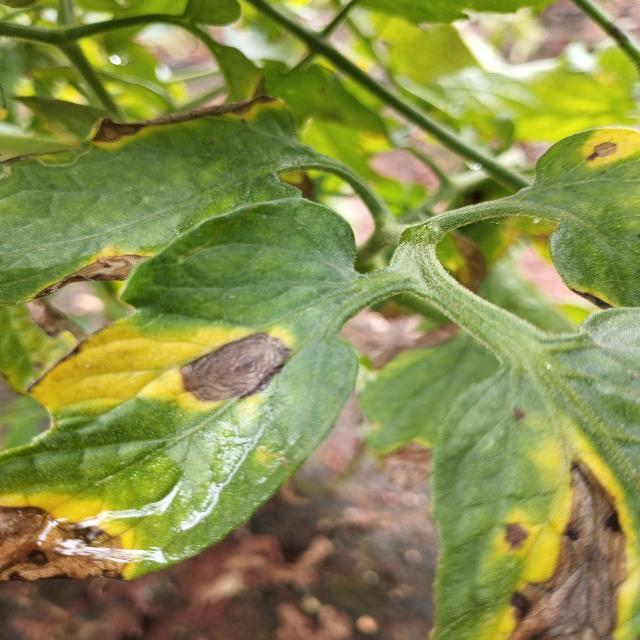Tomato mosaic virus leaf: (17, 310, 322, 433), (522, 121, 640, 312), (0, 223, 191, 313)
